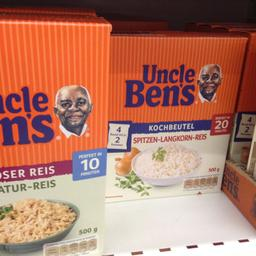rice: (0, 12, 110, 254), (108, 28, 246, 202)
